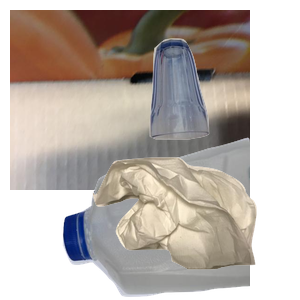cardboard: (10, 10, 250, 190)
glass: (147, 36, 300, 168)
plastic: (60, 135, 300, 300)
trash: (90, 155, 300, 300)
